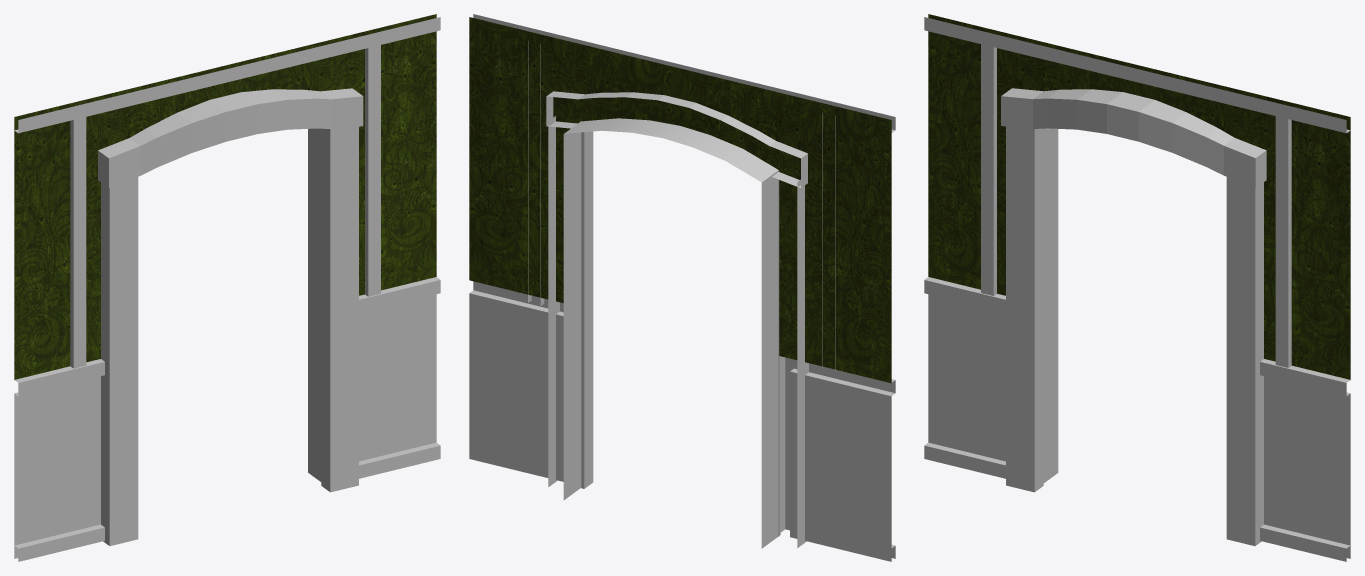
Rendered from factory_office_01_exit_doorway.dae.
3 views of the same model, side by side, from view 1: azimuth 30°, elevation 25°; view 2: azimuth 150°, elevation 25°; view 3: azimuth 330°, elevation 25° (orthographic).
Visible parts, largest first — view 1: polySurface13, Object153; view 2: polySurface13, Object153; view 3: polySurface13, Object153.
Boxes of the visible parts, bbox=[...] form: polySurface13: bbox=[14, 17, 440, 561]; Object153: bbox=[14, 14, 436, 379]; polySurface13: bbox=[469, 14, 895, 561]; Object153: bbox=[469, 17, 891, 383]; polySurface13: bbox=[924, 17, 1350, 561]; Object153: bbox=[928, 14, 1350, 379].
Bounding box in the file's own units: 4 × 4.02 × 0.5492.
